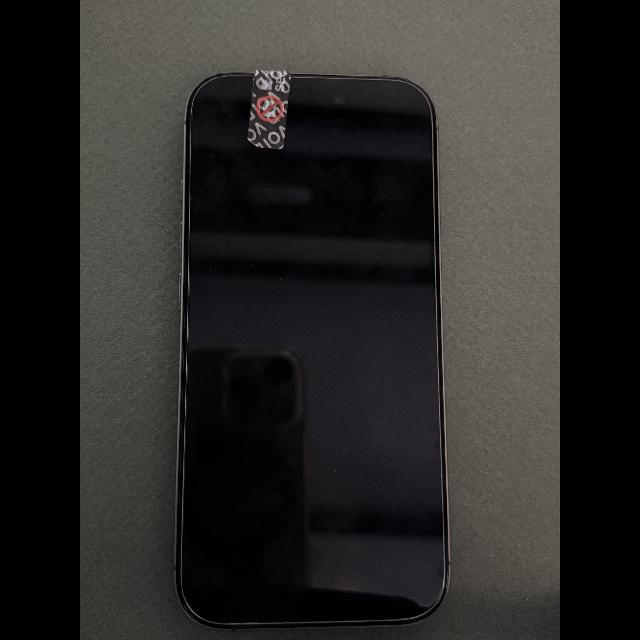phone: (174, 72, 450, 629)
sticker: (247, 70, 291, 150)
